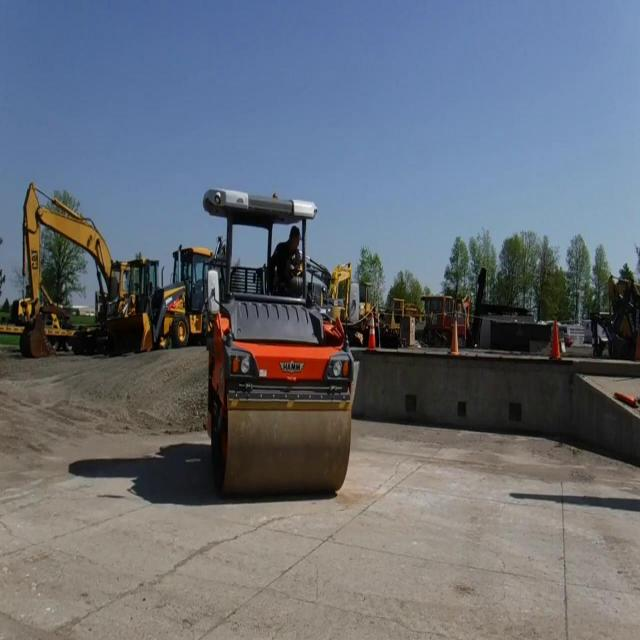Excavator: (17, 181, 135, 352)
Roller: (205, 184, 352, 499)
